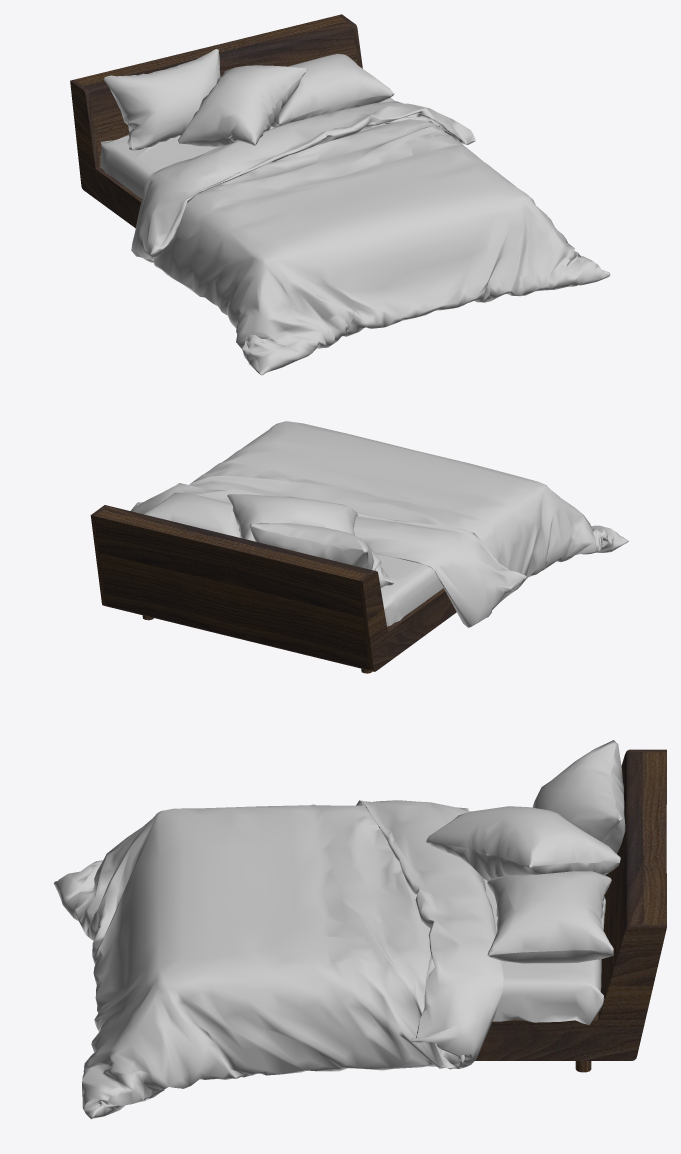
File: bed002.dae
3 views of the same model, one above another, from view 1: azimuth 30°, elevation 25°; view 2: azimuth 150°, elevation 25°; view 3: azimuth 270°, elevation 25° (orthographic). The views are drawn at different scales.
Visible parts, largest first — view 1: bed002_part01, bed002_part02, bed002_part03; view 2: bed002_part03, bed002_part01, bed002_part02; view 3: bed002_part01, bed002_part02, bed002_part03.
Boxes of the visible parts, x1,y1,x2,y2 form: bed002_part01: (104,49,609,374); bed002_part02: (100,52,610,375); bed002_part03: (70,14,389,227); bed002_part03: (90,505,456,671); bed002_part01: (189,421,627,602); bed002_part02: (130,483,628,627); bed002_part01: (54,740,620,1118); bed002_part02: (53,744,625,1119); bed002_part03: (475,749,666,1060).
Size of the model in its own units: 2.31 by 0.712 by 2.36.
